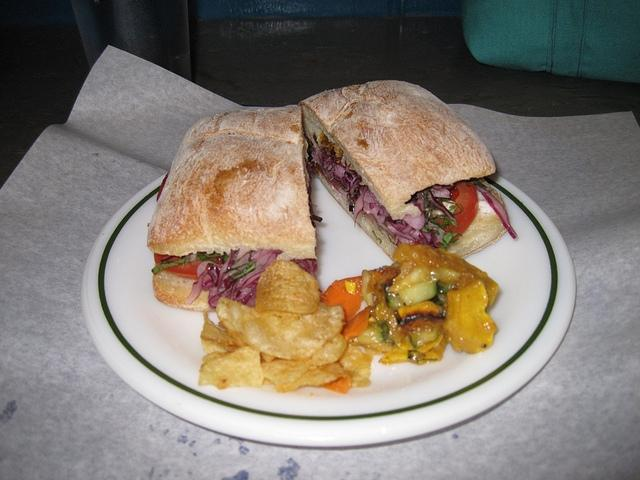tomato: (435, 180, 479, 240), (154, 253, 203, 280), (156, 172, 169, 202)
